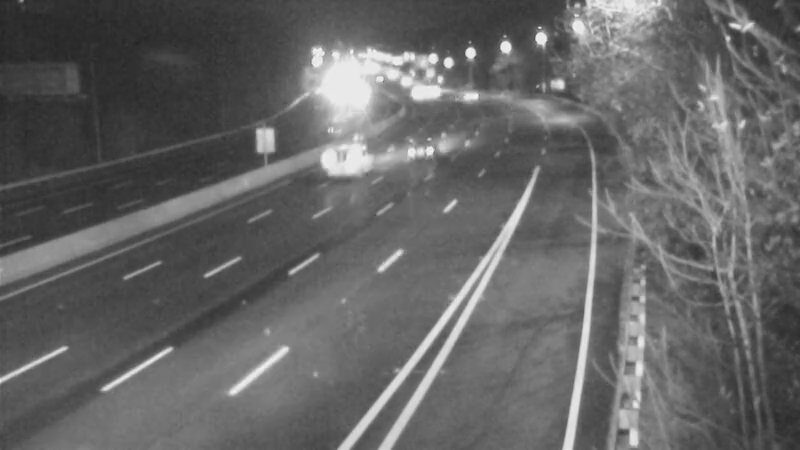vehicle: (312, 116, 392, 196), (409, 66, 459, 116), (398, 67, 448, 117), (441, 73, 491, 123), (394, 118, 444, 168)
